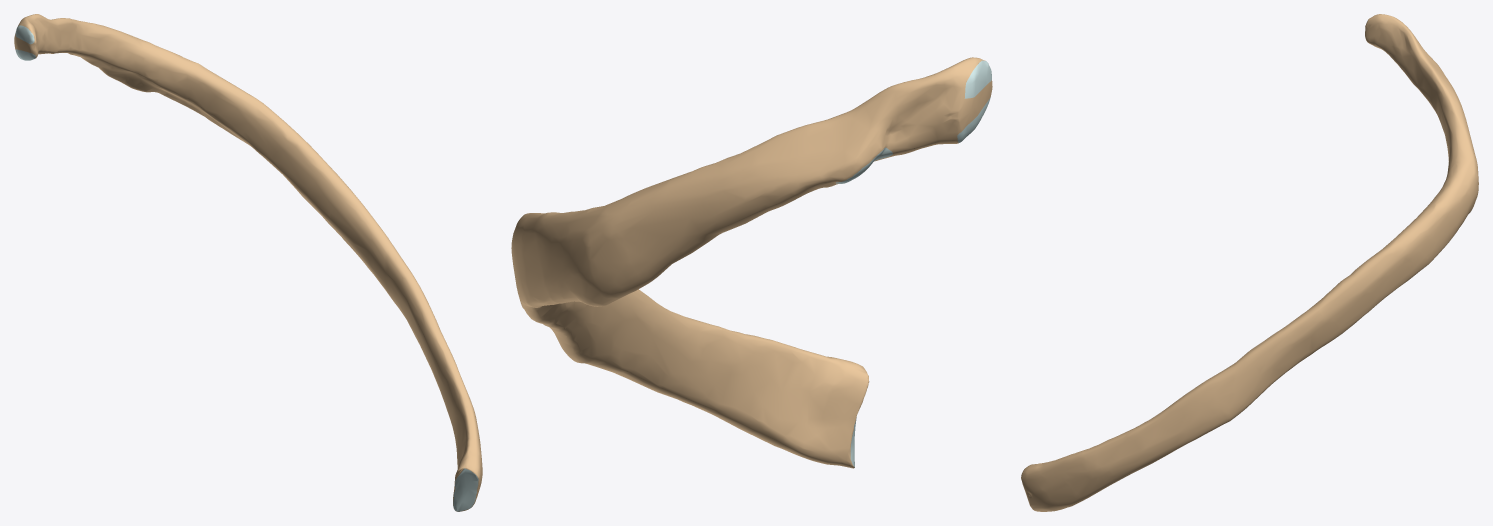
File: 8th_rib.l_Generated_Mesh_From_X3D.886.glb
3 renders of one model, left to right at view 1: azimuth 30°, elevation 25°; view 2: azimuth 150°, elevation 25°; view 3: azimuth 270°, elevation 25°, orthographic. The views are drawn at different scales.
Visible parts, largest first — view 1: 8th_rib.l_Generated_Mesh_From_X3D.886; view 2: 8th_rib.l_Generated_Mesh_From_X3D.886; view 3: 8th_rib.l_Generated_Mesh_From_X3D.886.
Part boxes in pixels (bbox=[...]): 8th_rib.l_Generated_Mesh_From_X3D.886: bbox=[14, 14, 482, 511]; 8th_rib.l_Generated_Mesh_From_X3D.886: bbox=[511, 57, 992, 468]; 8th_rib.l_Generated_Mesh_From_X3D.886: bbox=[1021, 14, 1478, 511].
Bounding box in the file's own units: 0.1179 × 0.1515 × 0.1634.
